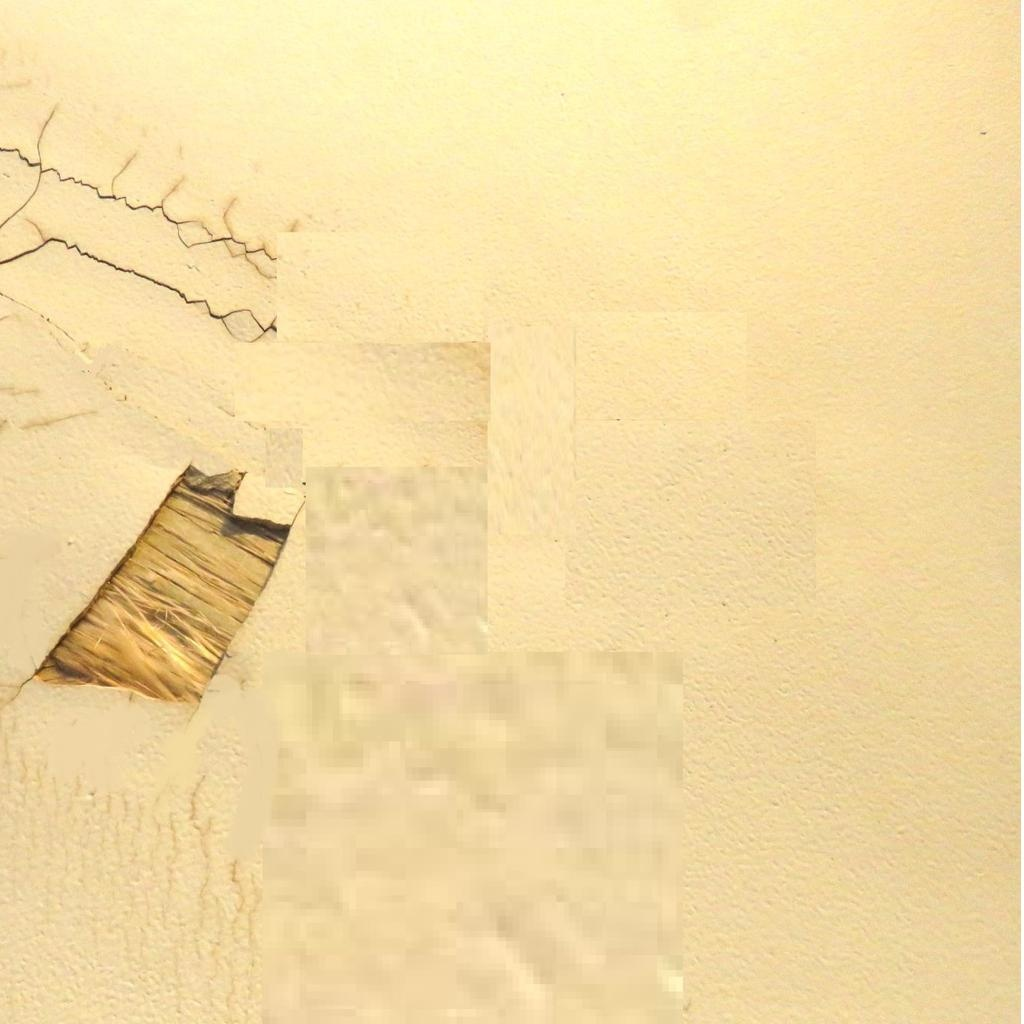hide_craze: (1, 116, 287, 339)
surface_injure: (12, 459, 296, 713)
